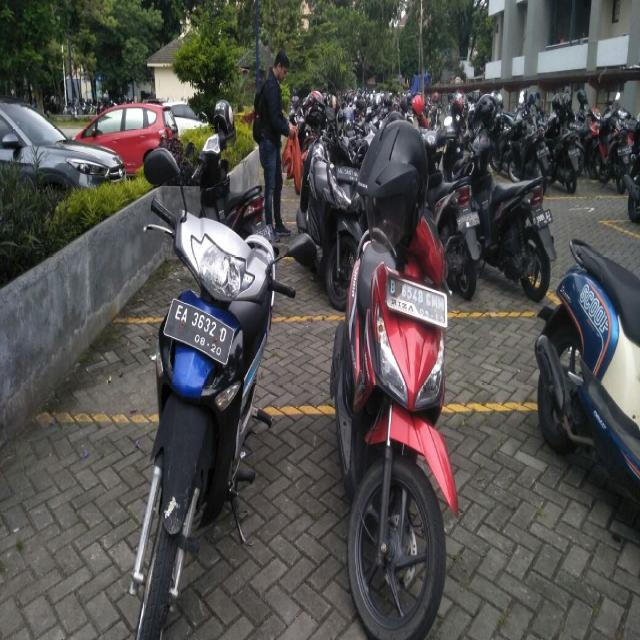plate: (162, 296, 232, 364), (386, 274, 447, 327), (334, 160, 360, 182), (456, 210, 479, 228), (532, 209, 552, 226)
